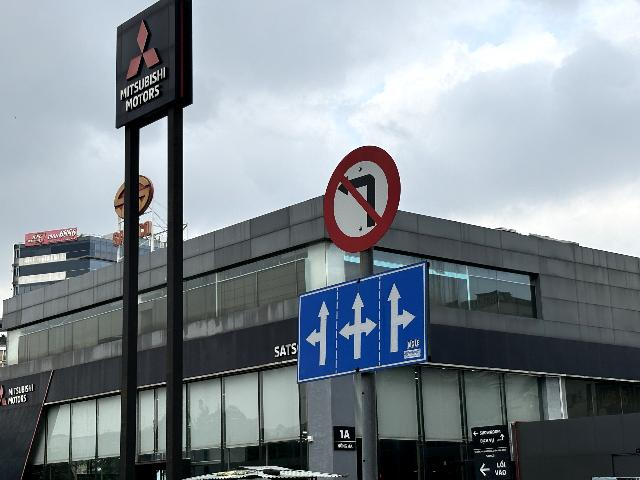cam-re-trai: (322, 144, 401, 253)
